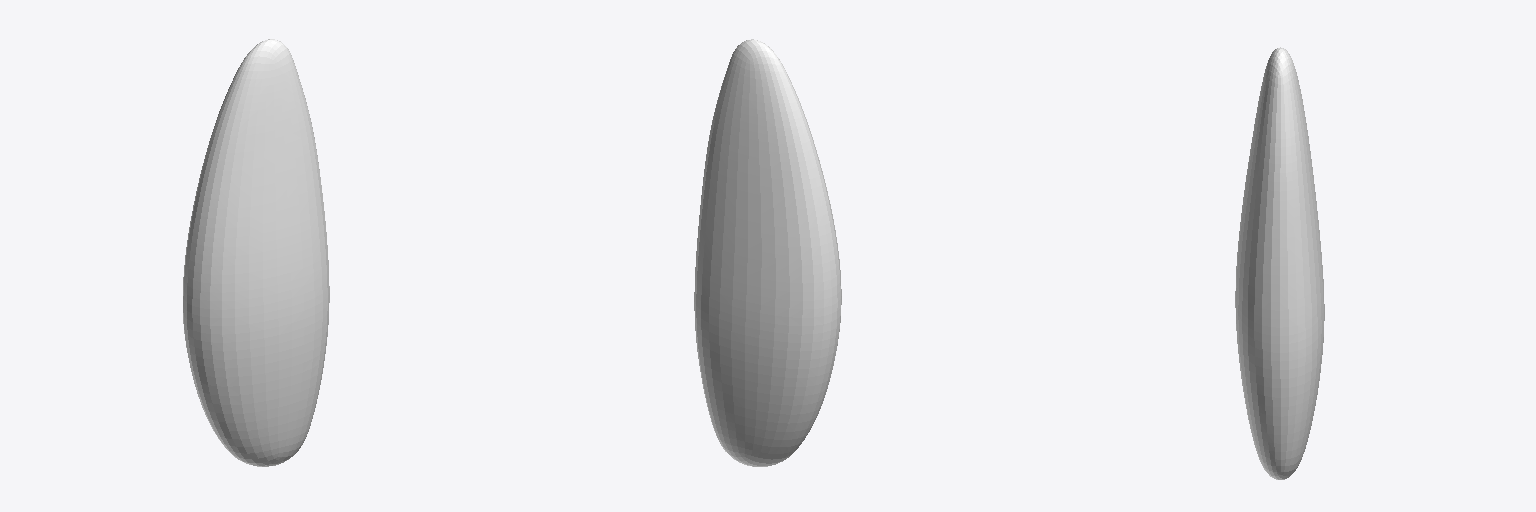
Rendered from fish.obj.
The picture shows the model from 3 angles: view 1: azimuth 30°, elevation 25°; view 2: azimuth 150°, elevation 25°; view 3: azimuth 270°, elevation 25°; orthographic projection.
Parts seen in each view (by area): view 1: subed_Cube.001_Material.001; view 2: subed_Cube.001_Material.001; view 3: subed_Cube.001_Material.001.
Boxes of the visible parts, box(x1,y1,x2,y2) form: subed_Cube.001_Material.001: box(183, 39, 329, 466); subed_Cube.001_Material.001: box(694, 39, 841, 466); subed_Cube.001_Material.001: box(1235, 47, 1324, 479).
Bounding box in the file's own units: 0.8665 × 2.54 × 0.482.